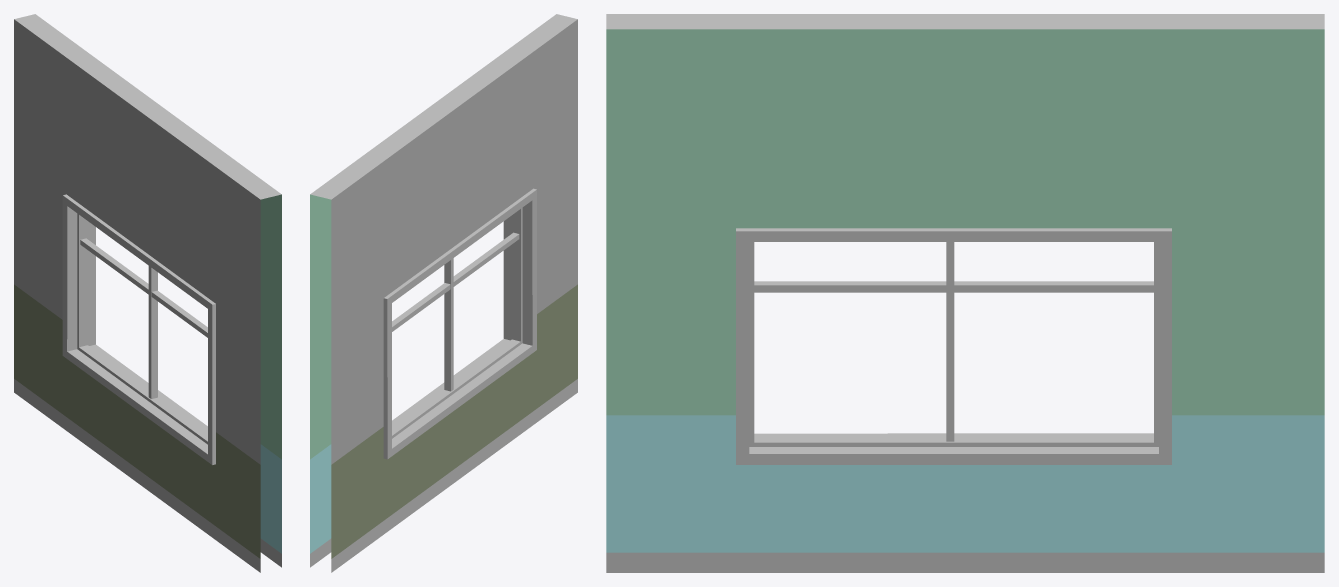
Rendered from SM_Wall_Window_B_400.fbx.
3 renders of one model, left to right at view 1: azimuth 30°, elevation 25°; view 2: azimuth 150°, elevation 25°; view 3: azimuth 270°, elevation 25°, orthographic. The views are drawn at different scales.
Parts seen in each view (by area): view 1: SM_Wall_Window_B_400; view 2: SM_Wall_Window_B_400; view 3: SM_Wall_Window_B_400.
Part boxes in pixels (x1=…): SM_Wall_Window_B_400: x1=14, y1=14, x2=281, y2=572; SM_Wall_Window_B_400: x1=310, y1=14, x2=577, y2=572; SM_Wall_Window_B_400: x1=606, y1=14, x2=1324, y2=572.
Size of the model in its own units: 27.27 by 334 by 400.
